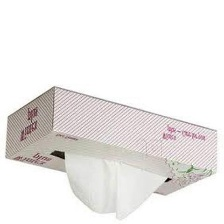book: (0, 82, 224, 200)
tissue: (52, 146, 172, 224)
